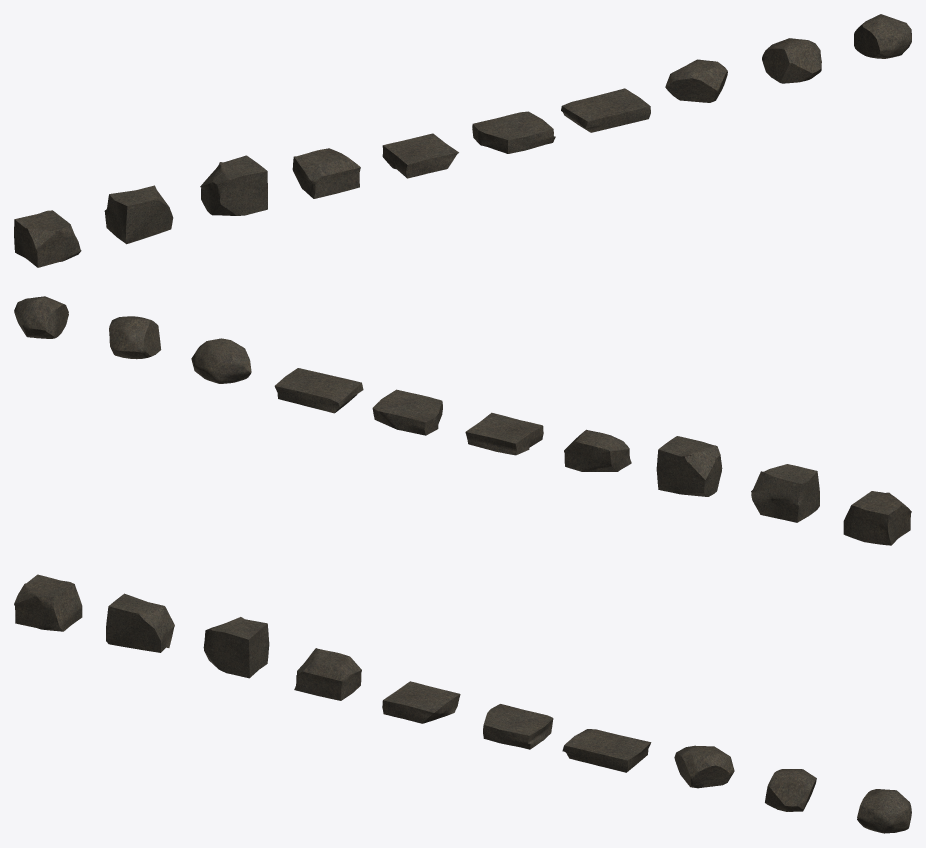
The model's file is rocas-oscura.glb.
3 renders of one model, top to bottom at view 1: azimuth 30°, elevation 25°; view 2: azimuth 150°, elevation 25°; view 3: azimuth 330°, elevation 25°, orthographic.
Parts seen in each view (by area): view 1: roca2, roca1, roca0, roca6, roca3, roca5, roca4, roca8, roca7, roca9; view 2: roca2, roca1, roca0, roca6, roca5, roca4, roca3, roca7, roca8, roca9; view 3: roca1, roca2, roca0, roca3, roca6, roca5, roca4, roca7, roca9, roca8.
Boxes of the visible parts, left/top/right/bottom form: roca2: left=200, top=155, right=267, bottom=215; roca1: left=104, top=185, right=173, bottom=244; roca0: left=14, top=210, right=81, bottom=267; roca6: left=561, top=88, right=650, bottom=132; roca3: left=292, top=148, right=360, bottom=198; roca5: left=472, top=111, right=555, bottom=153; roca4: left=382, top=133, right=458, bottom=178; roca8: left=762, top=38, right=821, bottom=83; roca7: left=665, top=59, right=727, bottom=102; roca9: left=854, top=14, right=911, bottom=58; roca2: left=656, top=436, right=722, bottom=496; roca1: left=751, top=464, right=819, bottom=522; roca0: left=843, top=491, right=911, bottom=545; roca6: left=274, top=368, right=363, bottom=413; roca5: left=372, top=389, right=442, bottom=435; roca4: left=465, top=412, right=543, bottom=455; roca3: left=564, top=429, right=631, bottom=471; roca7: left=191, top=338, right=251, bottom=383; roca8: left=109, top=316, right=161, bottom=359; roca9: left=14, top=296, right=68, bottom=338; roca1: left=106, top=593, right=174, bottom=652; roca2: left=203, top=617, right=269, bottom=678; roca0: left=14, top=574, right=82, bottom=631; roca3: left=294, top=648, right=361, bottom=700; roca6: left=562, top=729, right=651, bottom=772; roca5: left=483, top=704, right=553, bottom=749; roca4: left=382, top=681, right=460, bottom=723; roca7: left=674, top=745, right=734, bottom=788; roca9: left=857, top=789, right=911, bottom=833; roca8: left=765, top=769, right=816, bottom=811.
Bounding box in the file's own units: 19.01 × 0.839 × 1.09.
Materials: 1 (1 with a texture image).
